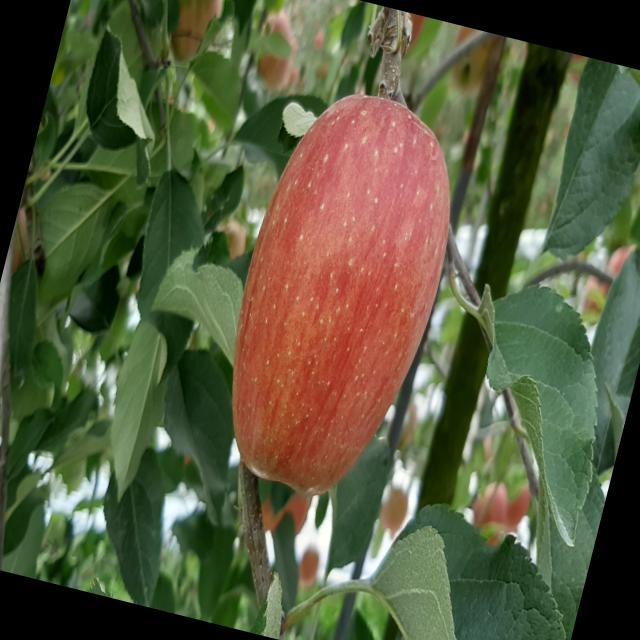fresh: (193, 65, 490, 526)
